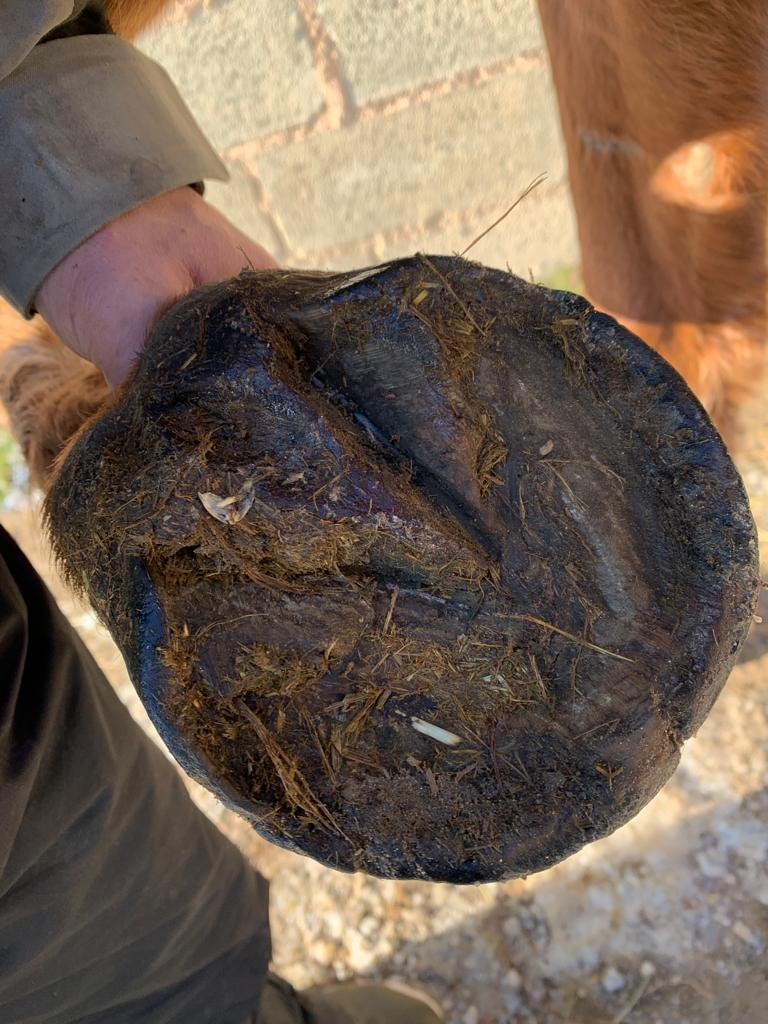horsesole: (131, 254, 758, 886)
